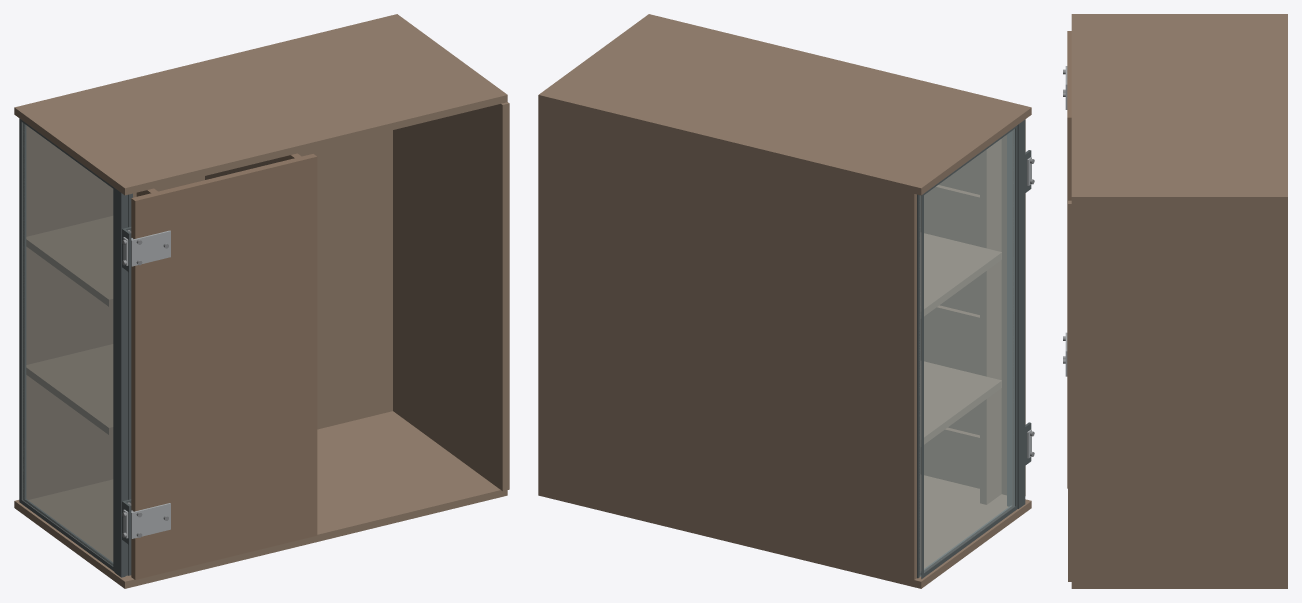
The model's file is closed.glb.
3 renders of one model, left to right at view 1: azimuth 30°, elevation 25°; view 2: azimuth 150°, elevation 25°; view 3: azimuth 270°, elevation 25°, orthographic. The views are drawn at different scales.
Parts seen in each view (by area): view 1: Door-face-18, Top-18, Back-12, Opposite-side-18, Left-glass-6, Bottom-18, Post-30x30, Left-shelf-1-18, Left-shelf-2-18, Glazing-stop-outer, Glazing-stop-inner, DIRAK-moving-flat-2 (+2 smaller); view 2: Back-12, Top-18, Left-glass-6, Door-face-18, Bottom-18, Door-inner-hinge-18, Post-30x30, Left-shelf-1-18, Left-shelf-2-18, Opposite-side-18, Glazing-stop-outer, Glazing-gasket-inner (+4 smaller); view 3: Opposite-side-18, Top-18, Bottom-18, Door-face-18.
Boxes of the visible parts, left/top/right/bottom form: Door-face-18: left=131, top=154, right=317, bottom=579; Top-18: left=14, top=14, right=507, bottom=195; Back-12: left=22, top=123, right=392, bottom=499; Opposite-side-18: left=393, top=102, right=509, bottom=491; Left-glass-6: left=22, top=122, right=113, bottom=565; Bottom-18: left=14, top=411, right=507, bottom=588; Post-30x30: left=114, top=188, right=132, bottom=577; Left-shelf-1-18: left=26, top=344, right=113, bottom=434; Left-shelf-2-18: left=26, top=216, right=113, bottom=306; Glazing-stop-outer: left=19, top=118, right=114, bottom=571; Glazing-stop-inner: left=22, top=123, right=112, bottom=562; DIRAK-moving-flat-2: left=131, top=230, right=170, bottom=266; Back-12: left=545, top=104, right=916, bottom=579; Top-18: left=538, top=14, right=1031, bottom=195; Left-glass-6: left=919, top=129, right=1014, bottom=576; Door-face-18: left=920, top=119, right=1025, bottom=495; Bottom-18: left=538, top=475, right=1031, bottom=588; Door-inner-hinge-18: left=980, top=139, right=1001, bottom=504; Post-30x30: left=1007, top=120, right=1025, bottom=508; Left-shelf-1-18: left=920, top=361, right=1001, bottom=446; Left-shelf-2-18: left=920, top=233, right=1001, bottom=318; Opposite-side-18: left=538, top=102, right=545, bottom=489; Glazing-stop-outer: left=921, top=125, right=1017, bottom=578; Glazing-gasket-inner: left=919, top=130, right=1013, bottom=576; Opposite-side-18: left=1068, top=200, right=1287, bottom=581; Top-18: left=1071, top=14, right=1287, bottom=203; Bottom-18: left=1071, top=582, right=1287, bottom=588; Door-face-18: left=1067, top=31, right=1071, bottom=488.
Bounding box in the file's own units: 1 × 1 × 0.5195.
